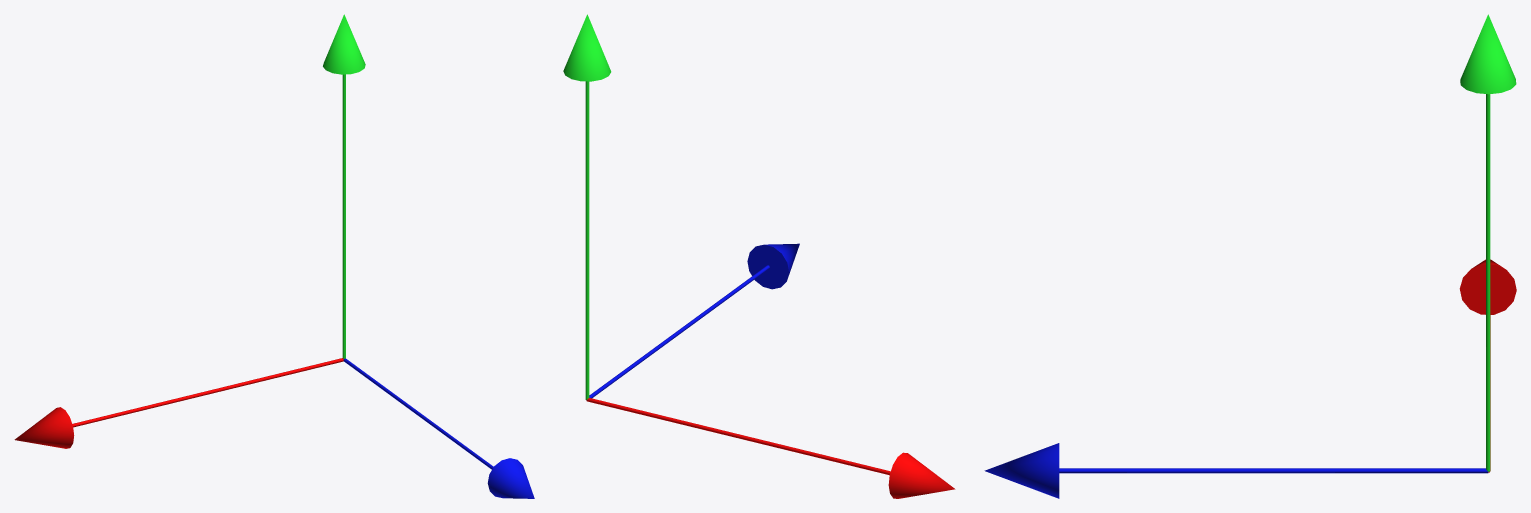
The picture shows the model from 3 angles, left to right: view 1: azimuth 30°, elevation 25°; view 2: azimuth 150°, elevation 25°; view 3: azimuth 270°, elevation 25°; orthographic projection. The views are drawn at different scales.
Parts seen in each view (by area): view 1: 红, 绿, 蓝; view 2: 绿, 红, 蓝; view 3: 蓝, 绿, 红.
Boxes of the visible parts, left/top/right/bottom form: 红: left=14, top=358, right=343, bottom=448; 绿: left=323, top=14, right=365, bottom=358; 蓝: left=343, top=358, right=534, bottom=498; 绿: left=563, top=14, right=611, bottom=399; 红: left=586, top=398, right=955, bottom=498; 蓝: left=589, top=243, right=799, bottom=398; 蓝: left=984, top=443, right=1488, bottom=498; 绿: left=1460, top=14, right=1516, bottom=471; 红: left=1459, top=259, right=1516, bottom=472.
Size of the model in its own units: 2.05 by 2.05 by 2.05.
